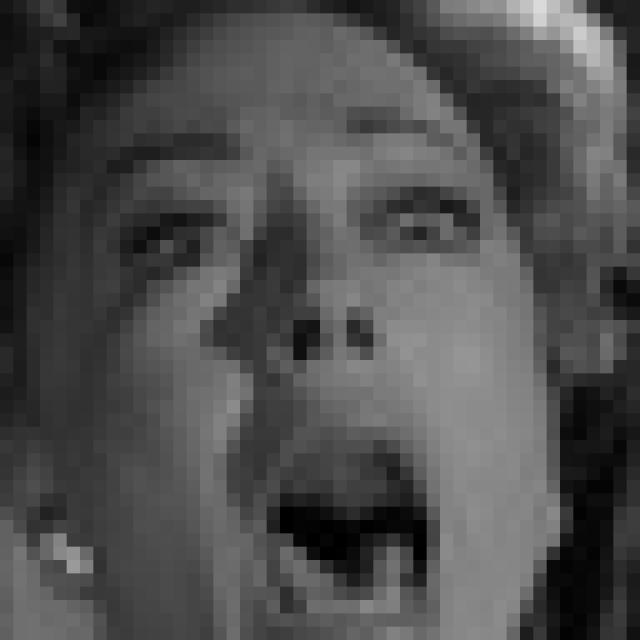fear: (78, 102, 496, 640)
